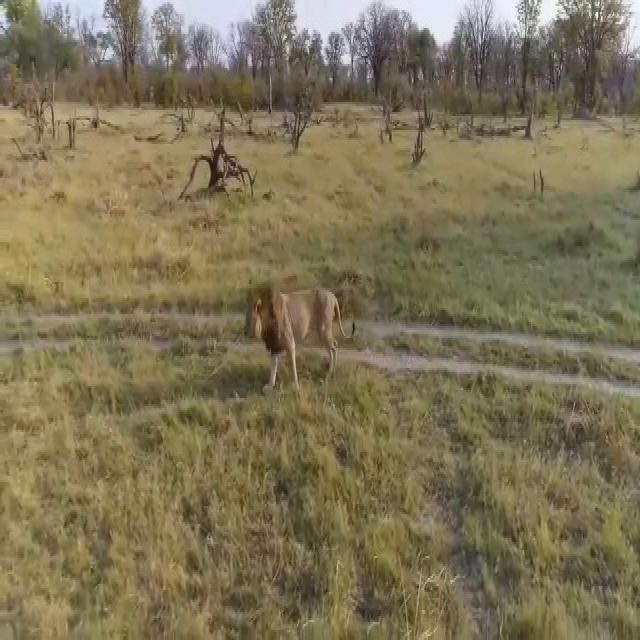Lion: (244, 282, 360, 401)
